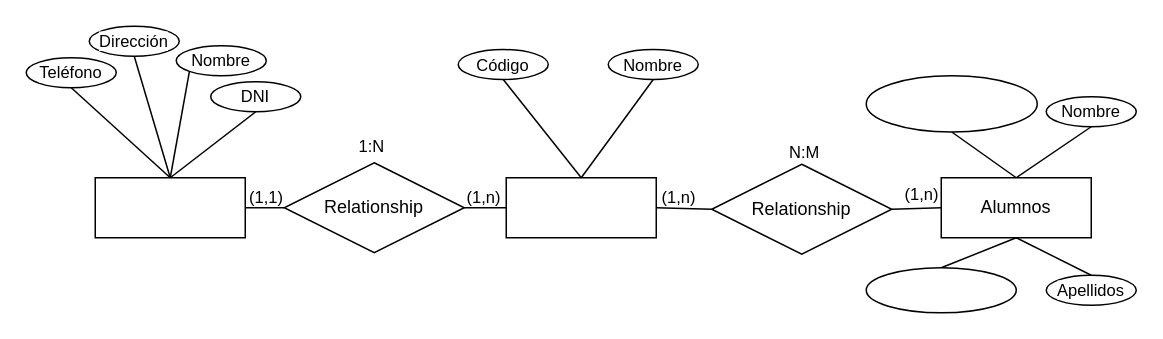
This 1163x339 diagram has some shape labels left out. The centre of each missing label's shape, as x and y in pixels:
"Fecha de nacimiento" goes at (x=951, y=103).
"Modulos" goes at (x=580, y=207).
"nº de expediente" goes at (x=940, y=289).
"Profesores" goes at (x=169, y=207).
